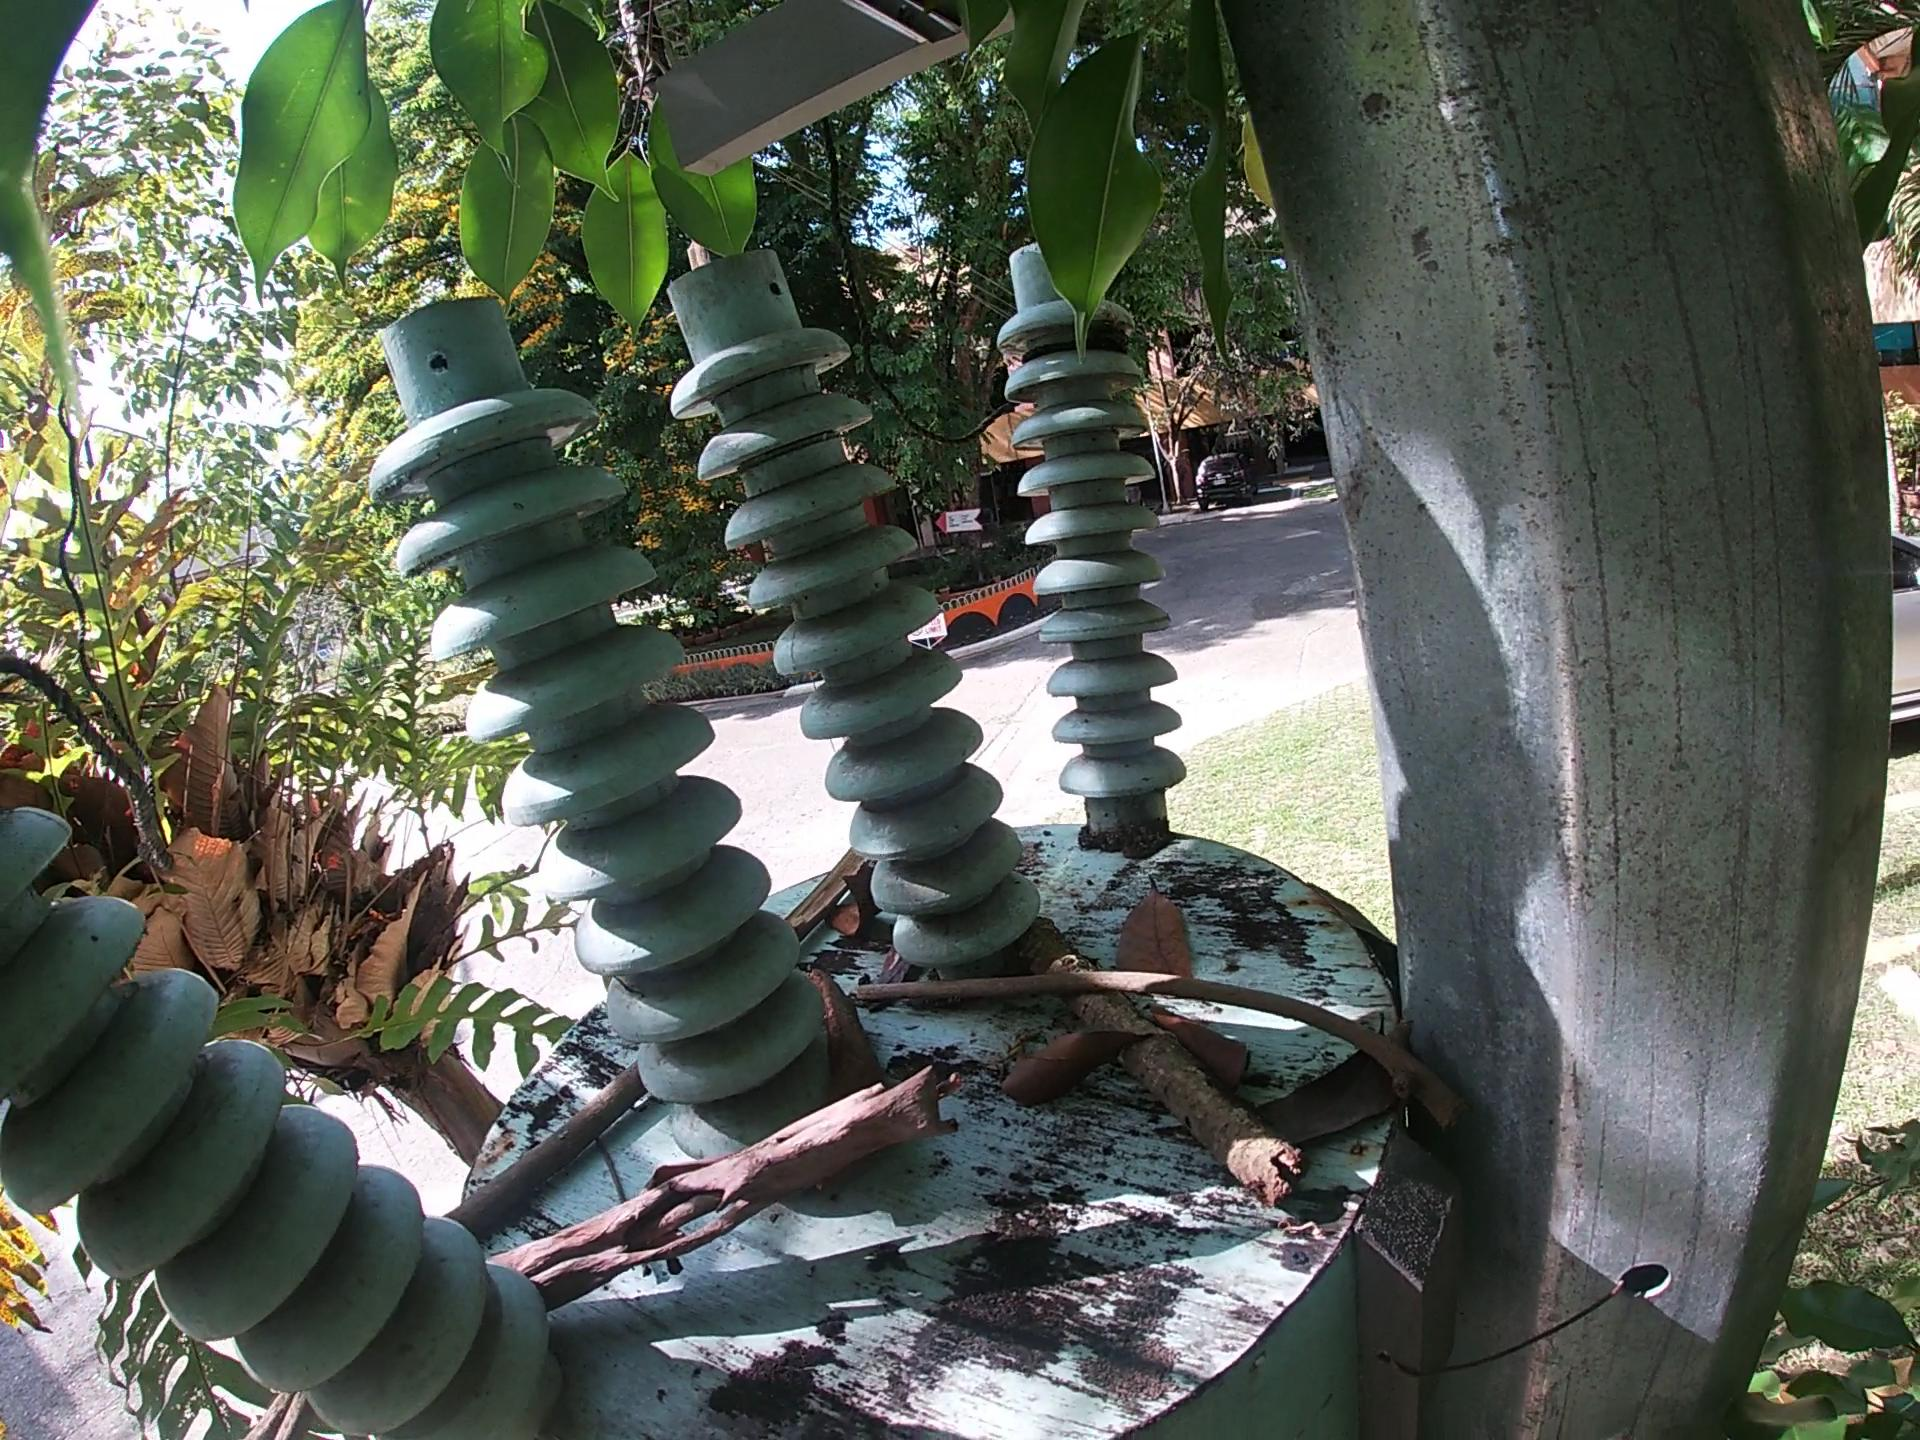leaf: (1249, 1010, 1401, 1156), (996, 1016, 1158, 1118), (1110, 873, 1212, 982), (1157, 1001, 1255, 1091)
mahogany fruit: (801, 959, 886, 1195), (825, 864, 890, 948)
tree branch: (481, 1062, 963, 1308), (847, 959, 1483, 1142), (1023, 912, 1312, 1216), (438, 1063, 655, 1240), (792, 838, 866, 950)
